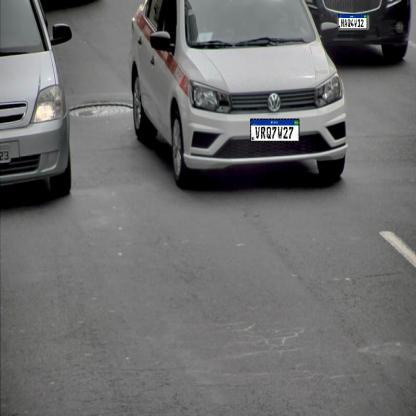PlacaM: (250, 119, 300, 142), (338, 14, 367, 29)
